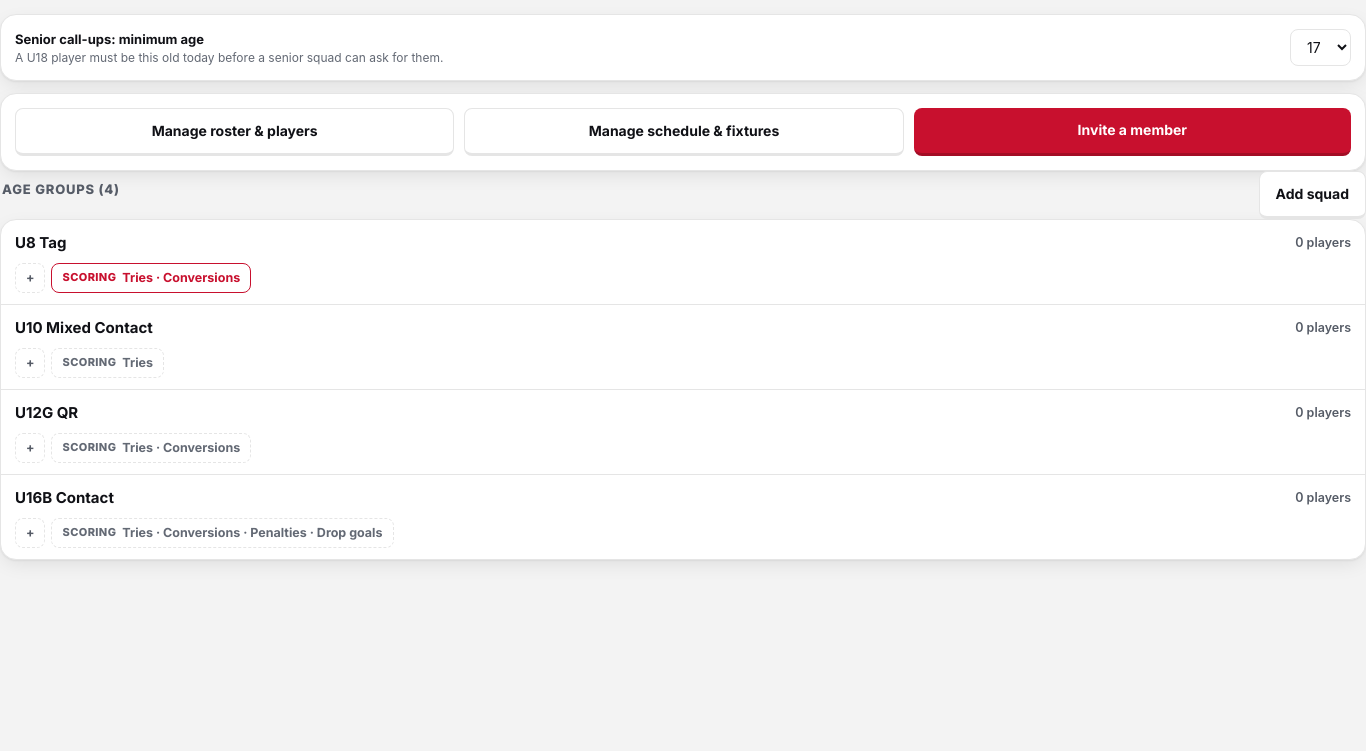
Test case: AdminClub — whether a squad plays contact › ⚠️ FLIPS WHERE IT STANDS: the panel stays open showing the NEW value
The width and height of the screenshot is (1366, 751).
Click the button with test id "scoring-chip-team-u10". click: (108, 363)
box: [52, 348, 164, 378]
(page scrolled)
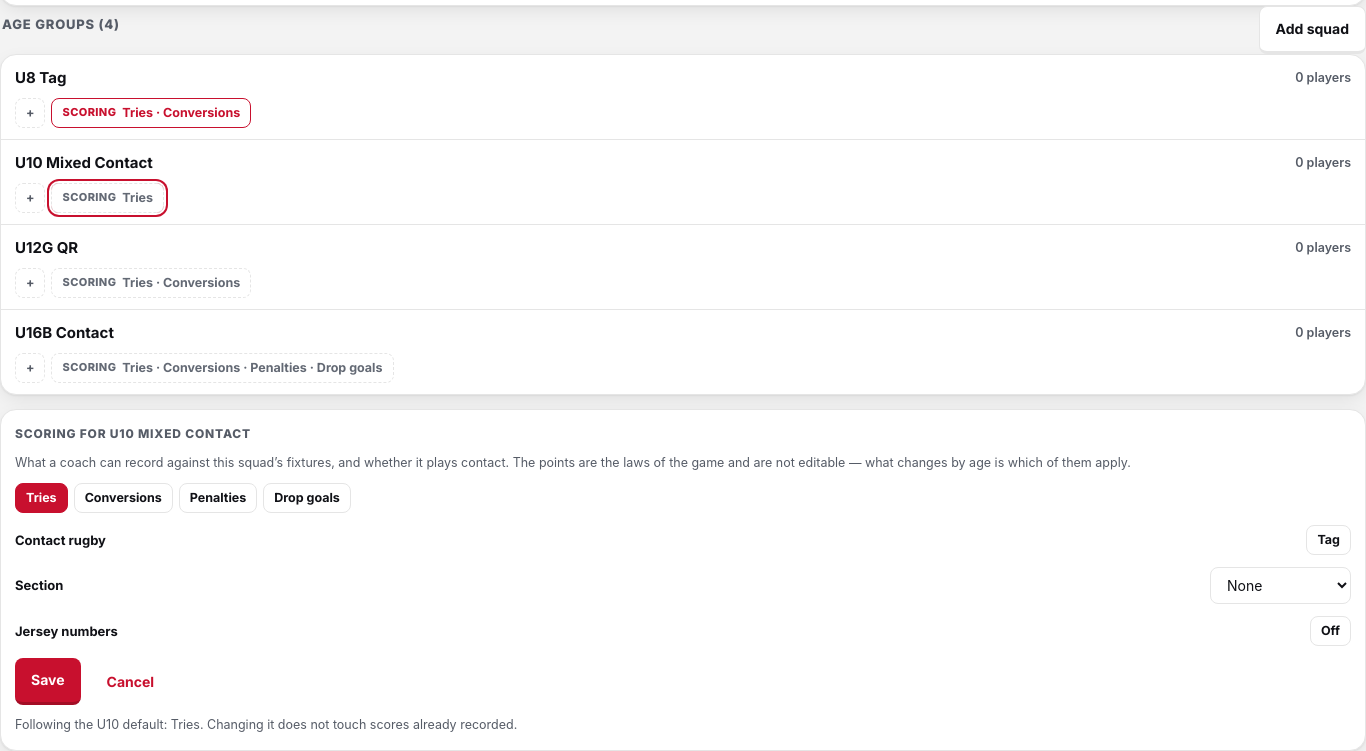
Click the switch named "contact rugby". click: (1329, 540)
box: [1306, 525, 1351, 555]
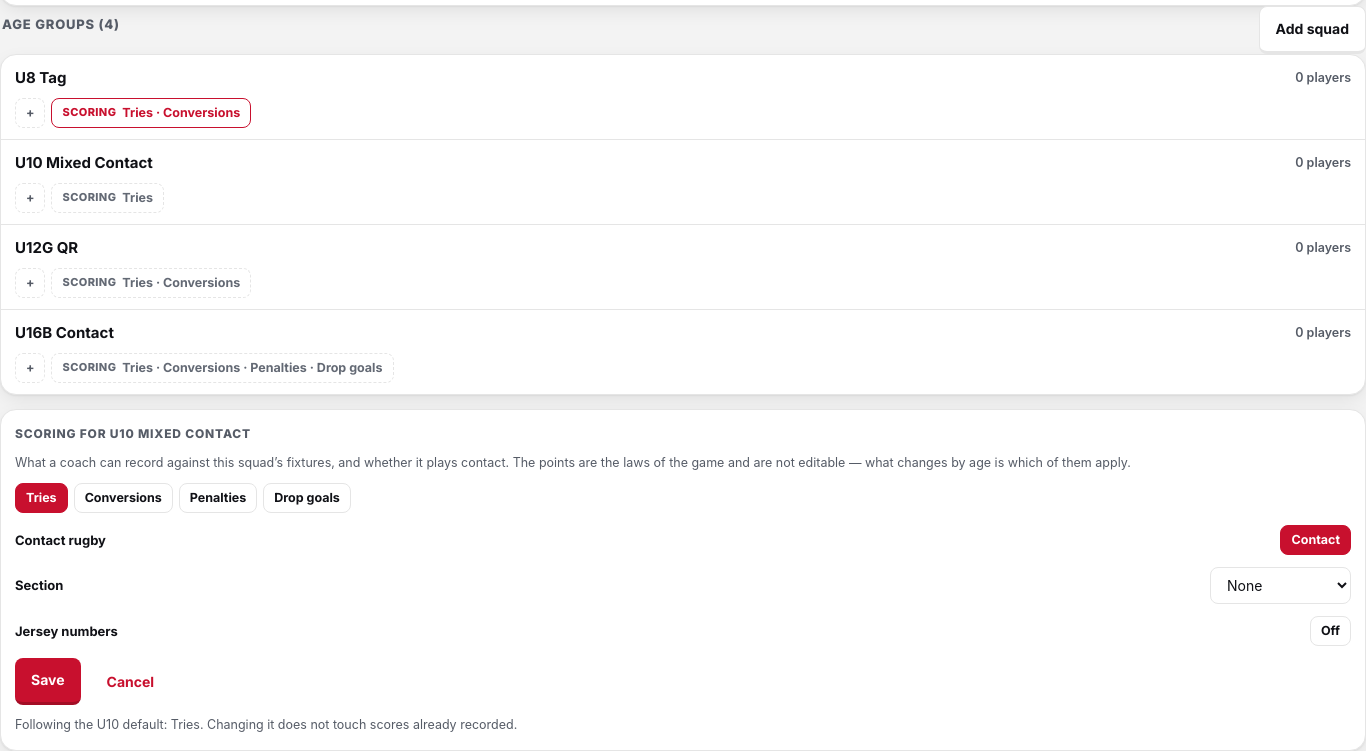
expect the element with test id "scoring-panel" is shown: met, box [0, 409, 1365, 750]
expect the button "Save" is shown: met, box [15, 658, 80, 705]
expect the switch named "contact rugby" reads "Contact": met, box [1280, 525, 1351, 555]
